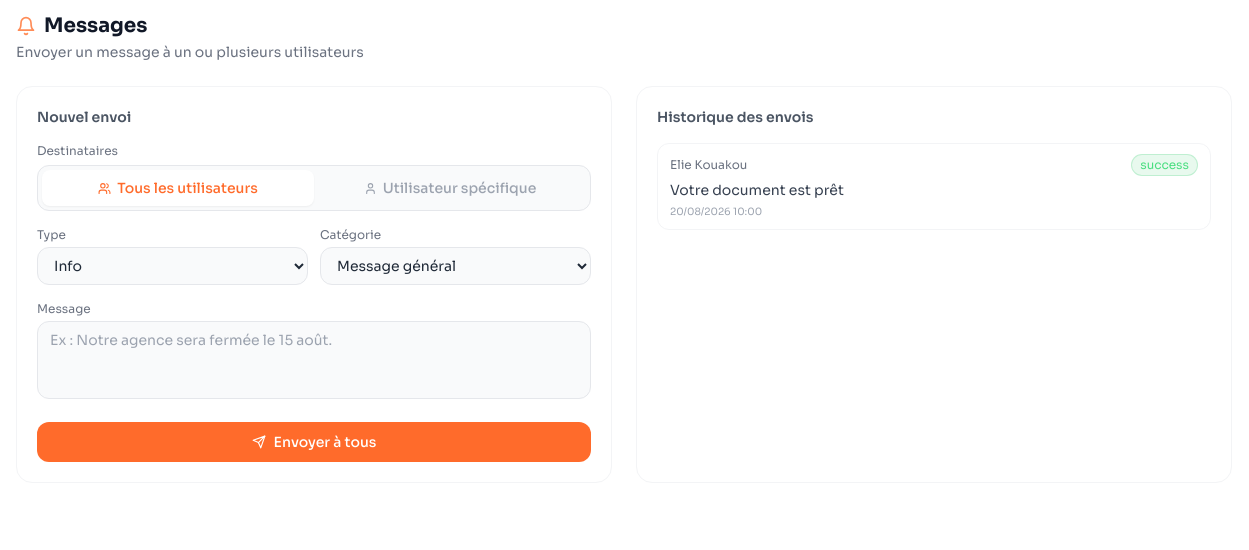
Test: AdminMessagesPage › affiche l’erreur du serveur si l’envoi échoue
The image size is (1249, 550).
Type "Bonjour" into the text box with placeholder "Ex : Notre agence sera fermée le 15 août.".
click(314, 360); type("Bonjour")  # box [37,321,591,399]
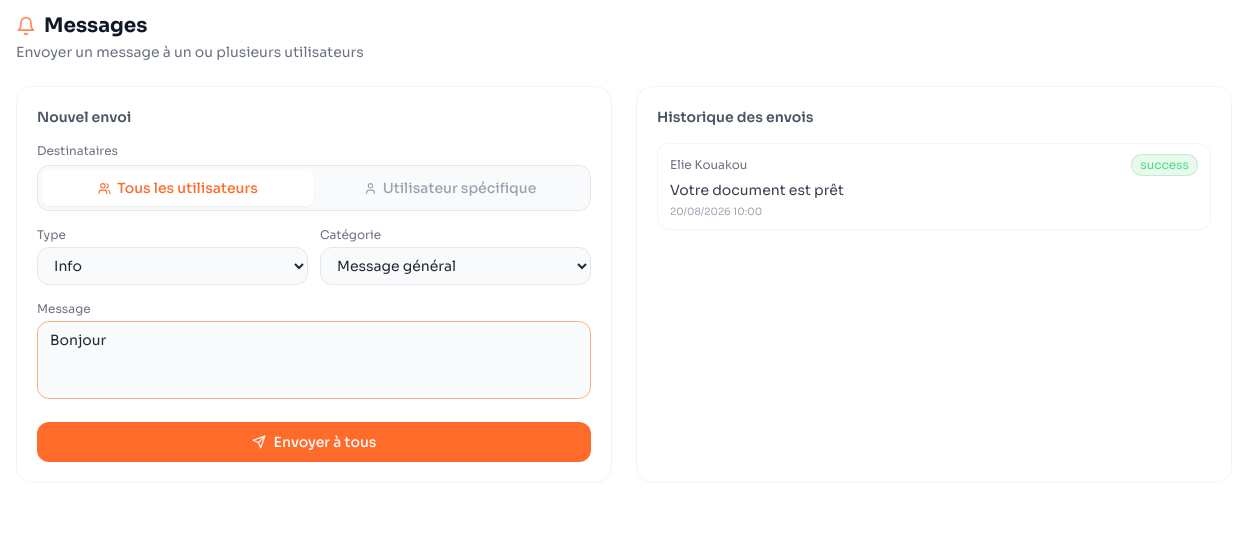
Click the button "Envoyer à tous".
click(314, 442)  # box [37,422,591,462]
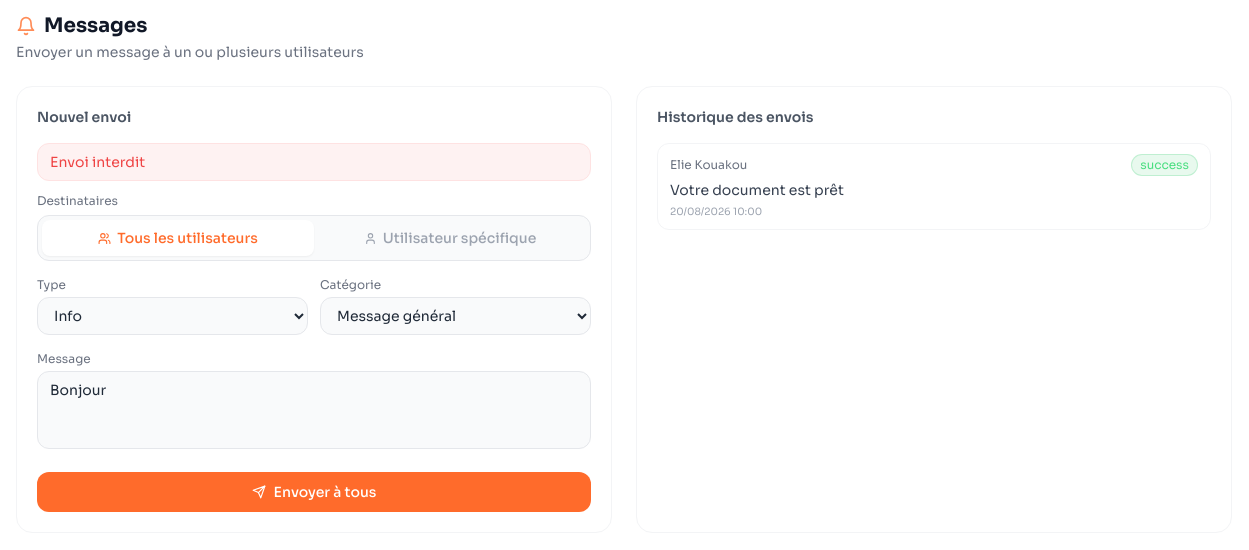
Expected: the text "Envoi interdit" is shown, [37,143,591,181]
